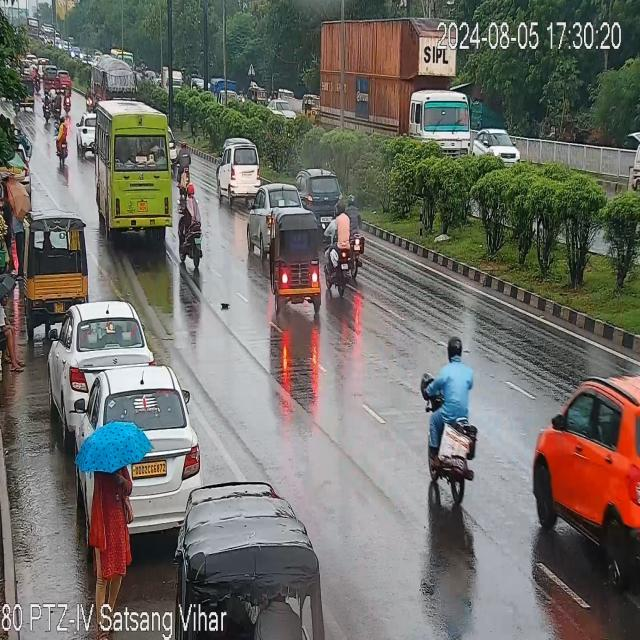2-wheelers: (422, 333, 492, 518), (176, 180, 214, 282), (324, 201, 350, 301), (348, 192, 364, 280), (176, 135, 198, 189), (52, 114, 74, 168), (59, 72, 79, 118), (82, 78, 98, 116), (52, 78, 64, 118), (41, 90, 52, 123)
auto: (26, 212, 89, 346), (270, 200, 328, 327), (302, 89, 322, 124), (250, 80, 266, 104)
bus: (96, 99, 180, 247)
car: (538, 332, 640, 602), (74, 348, 200, 552), (48, 297, 150, 433), (245, 180, 306, 256), (299, 158, 352, 234), (219, 133, 263, 201), (472, 106, 524, 158), (626, 116, 640, 186), (270, 92, 300, 112)
pedestrian: (78, 418, 154, 596), (0, 263, 22, 395), (10, 178, 28, 274), (0, 176, 13, 218)
truck: (322, 10, 468, 152), (93, 48, 139, 108)
